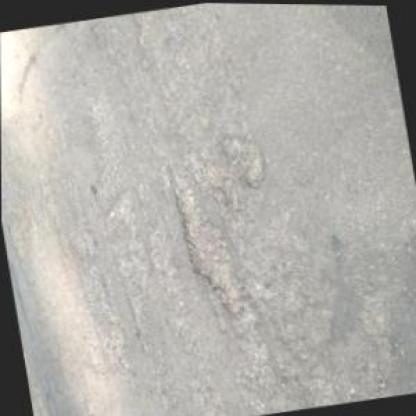pothole: (170, 168, 247, 323), (216, 129, 266, 191)
